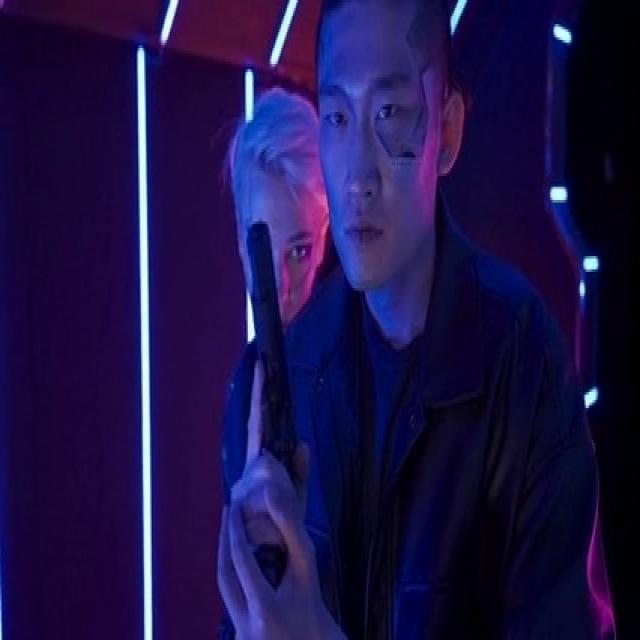Gun_Holder: (222, 216, 334, 640)
Jacket_Wearer: (279, 229, 610, 640)
Person: (282, 0, 612, 640), (210, 102, 340, 640)
